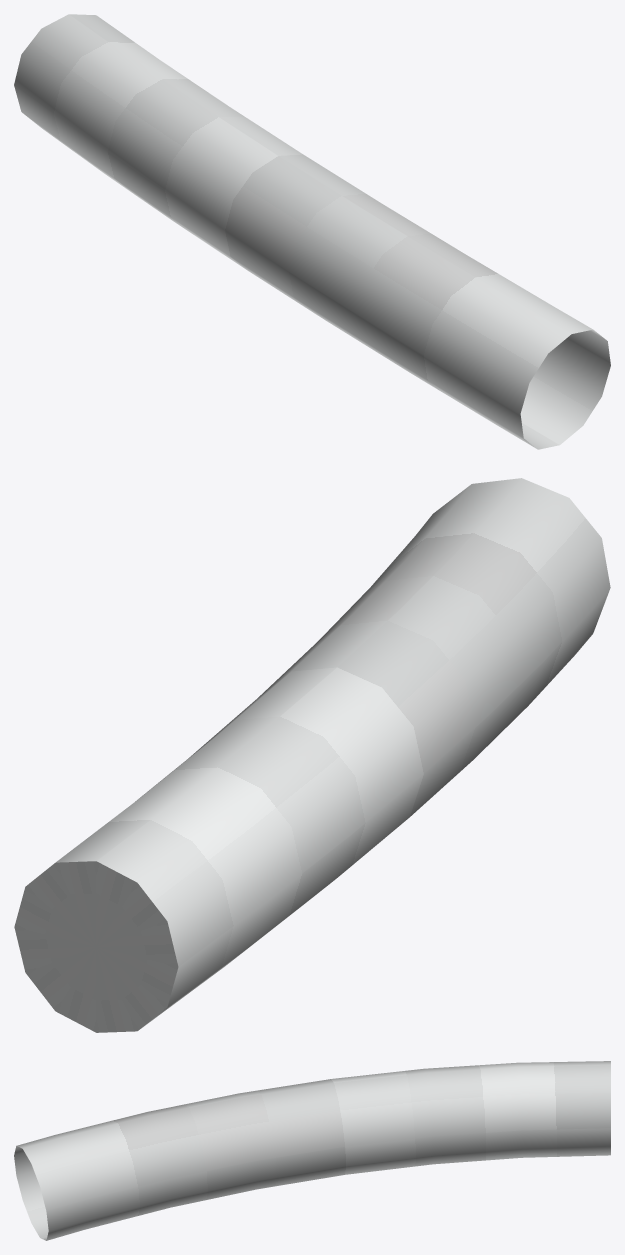
The model's file is luminairearm_vannuystriple_c15.obj.
3 renders of one model, top to bottom at view 1: azimuth 30°, elevation 25°; view 2: azimuth 150°, elevation 25°; view 3: azimuth 270°, elevation 25°, orthographic. The views are drawn at different scales.
Parts seen in each view (by area): view 1: luminairearm_vannuystriple_c15; view 2: luminairearm_vannuystriple_c15; view 3: luminairearm_vannuystriple_c15.
Part boxes in pixels (x1=…): luminairearm_vannuystriple_c15: x1=14, y1=14, x2=610, y2=449; luminairearm_vannuystriple_c15: x1=14, y1=478, x2=610, y2=1032; luminairearm_vannuystriple_c15: x1=14, y1=1061, x2=610, y2=1240.
Bounding box in the file's own units: 0.3244 × 0.2517 × 1.02.
